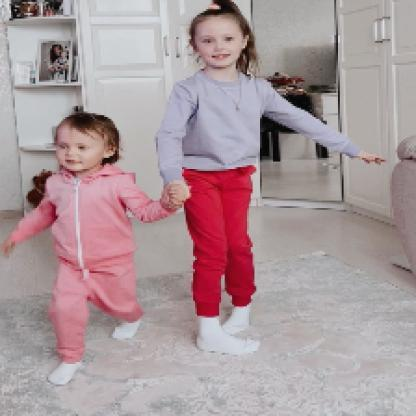child: (155, 2, 387, 357), (1, 114, 183, 389)
